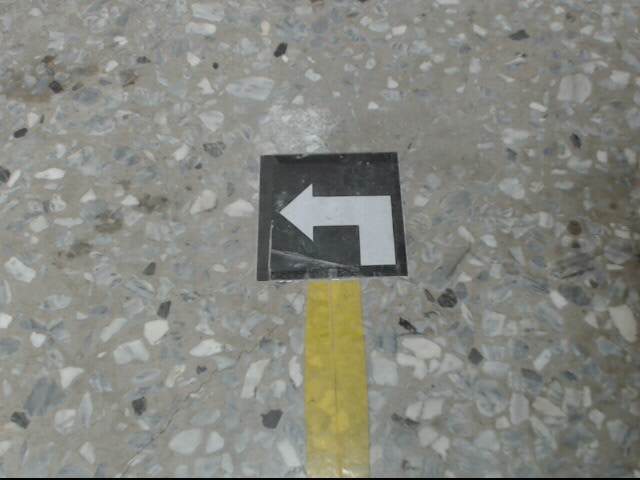straight: (256, 151, 411, 282)
